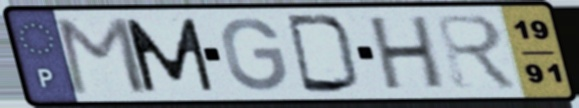D: (282, 12, 363, 95)
G: (218, 15, 291, 93)
H: (367, 13, 447, 93)
M: (53, 15, 151, 97), (121, 16, 218, 94)
R: (430, 12, 524, 92)
